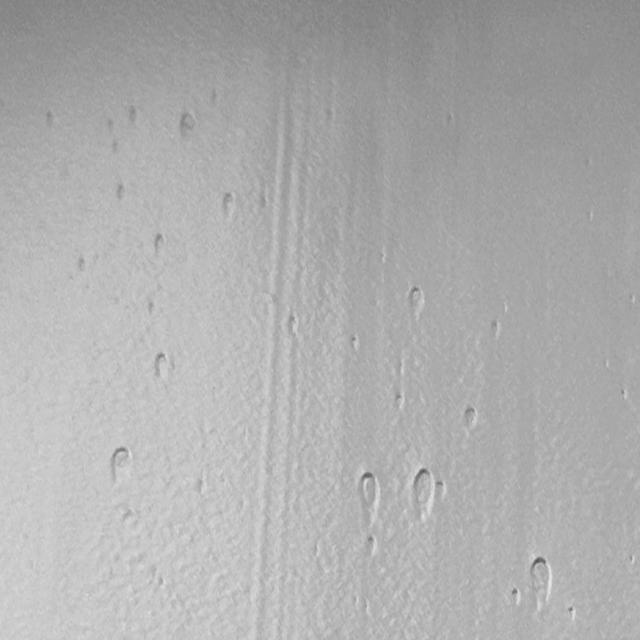pin holes: (407, 468, 435, 522), (525, 556, 554, 606), (108, 442, 139, 488), (356, 472, 383, 518), (150, 351, 174, 384), (405, 284, 427, 316), (178, 110, 200, 141), (217, 191, 238, 221), (460, 404, 480, 431), (282, 312, 302, 338), (40, 110, 59, 134), (360, 533, 378, 558), (114, 183, 132, 207), (153, 232, 170, 257), (509, 586, 523, 609), (126, 106, 141, 127), (393, 392, 408, 413), (488, 319, 502, 341), (435, 478, 449, 499), (146, 298, 160, 318), (104, 117, 117, 137), (76, 256, 90, 274), (618, 388, 632, 406), (347, 334, 360, 351), (567, 606, 579, 624)
